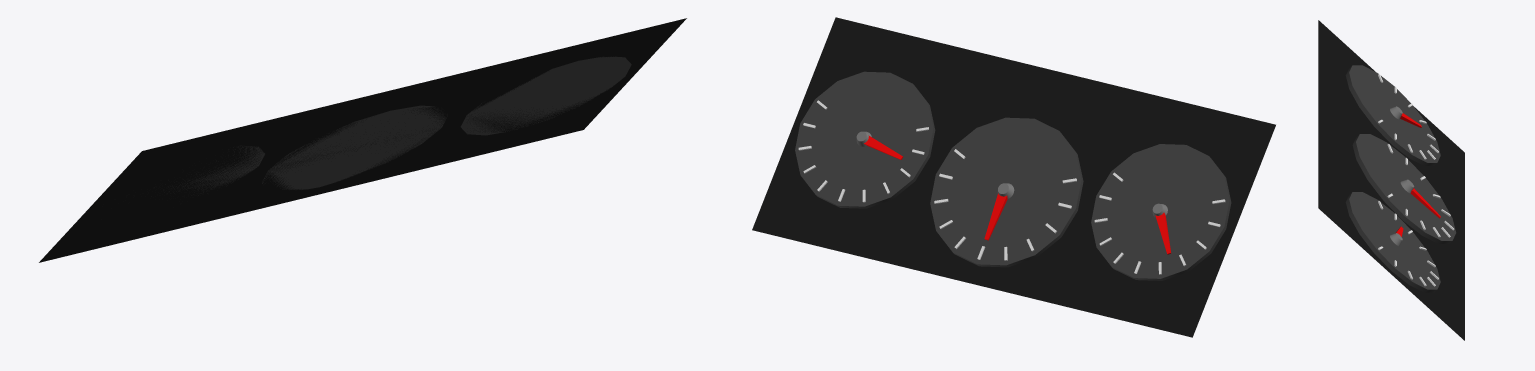
Rendered from Leg_YiBiaoPan2_1X3_off.FBX.
3 renders of one model, left to right at view 1: azimuth 30°, elevation 25°; view 2: azimuth 150°, elevation 25°; view 3: azimuth 270°, elevation 25°, orthographic. The views are drawn at different scales.
Visible parts, largest first — view 1: Box001; view 2: Box001; view 3: Box001.
Part boxes in pixels (<box>): Box001: <box>39,18,686,262</box>; Box001: <box>752,17,1275,337</box>; Box001: <box>1318,20,1464,340</box>.
Bounding box in the file's own units: 3 × 1 × 1.28.
